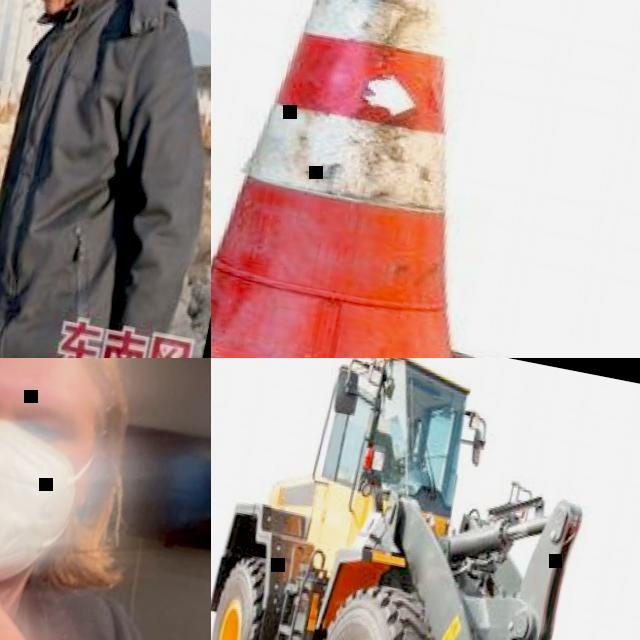Mask: (0, 407, 89, 594)
NO-Mask: (37, 0, 79, 14)
NO-Safety Vest: (0, 0, 184, 358), (0, 530, 144, 640)
Person: (0, 0, 211, 358), (0, 358, 211, 640)
Safety Cone: (211, 0, 640, 358)
machinery: (211, 358, 640, 640)
